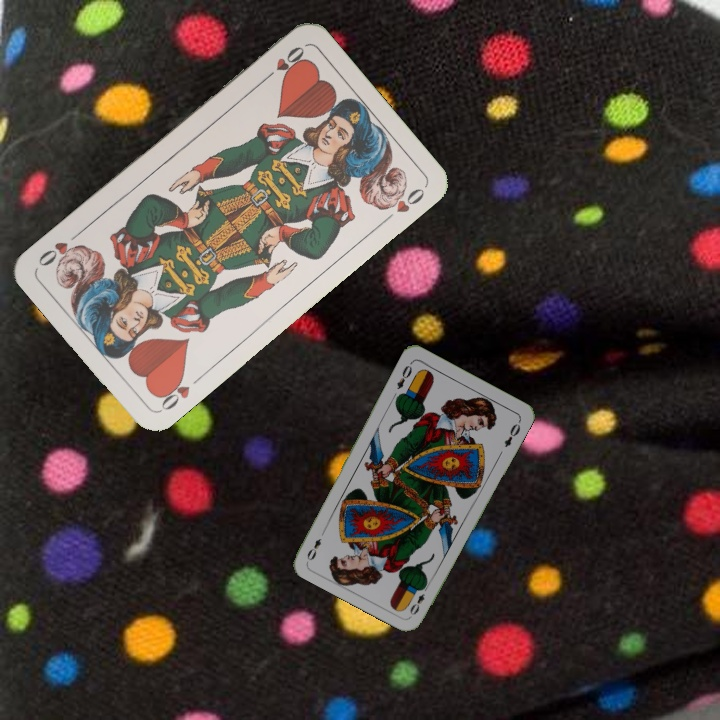EO: (406, 580, 432, 618), (393, 358, 415, 392)
HO: (258, 42, 308, 85), (153, 370, 193, 414)
